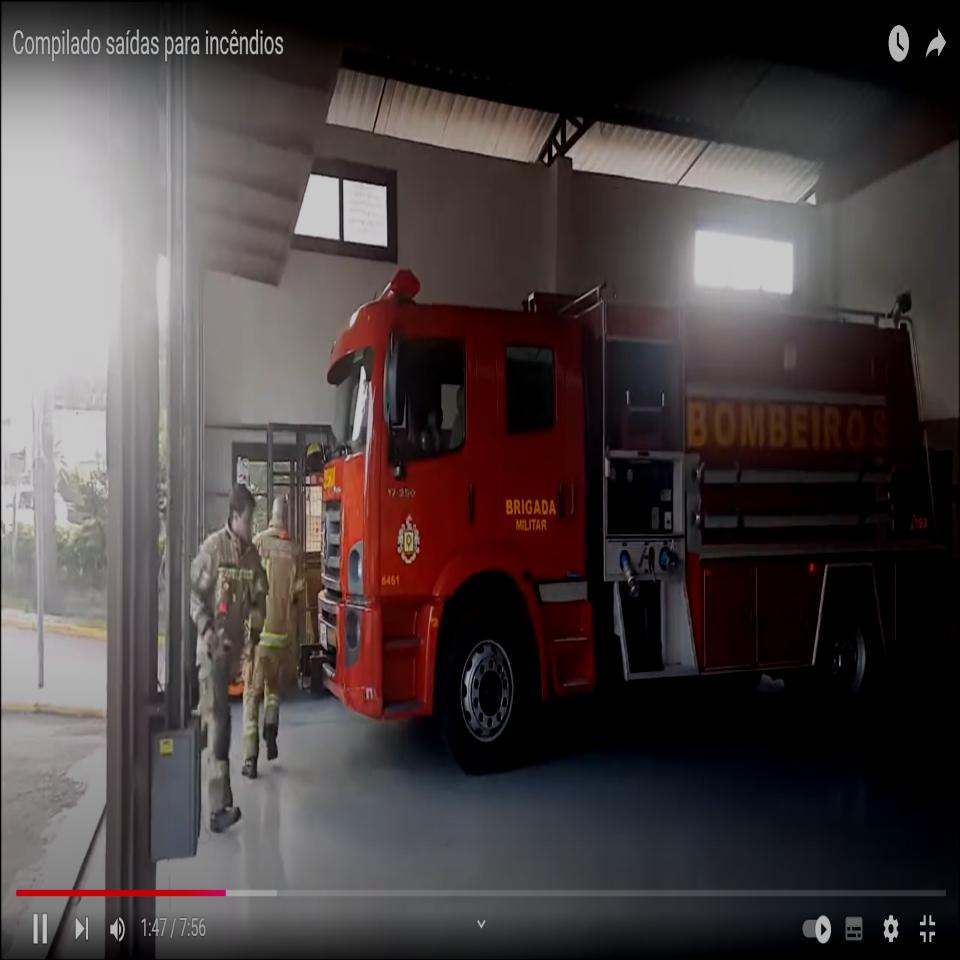bombeiro: (314, 270, 960, 779)
